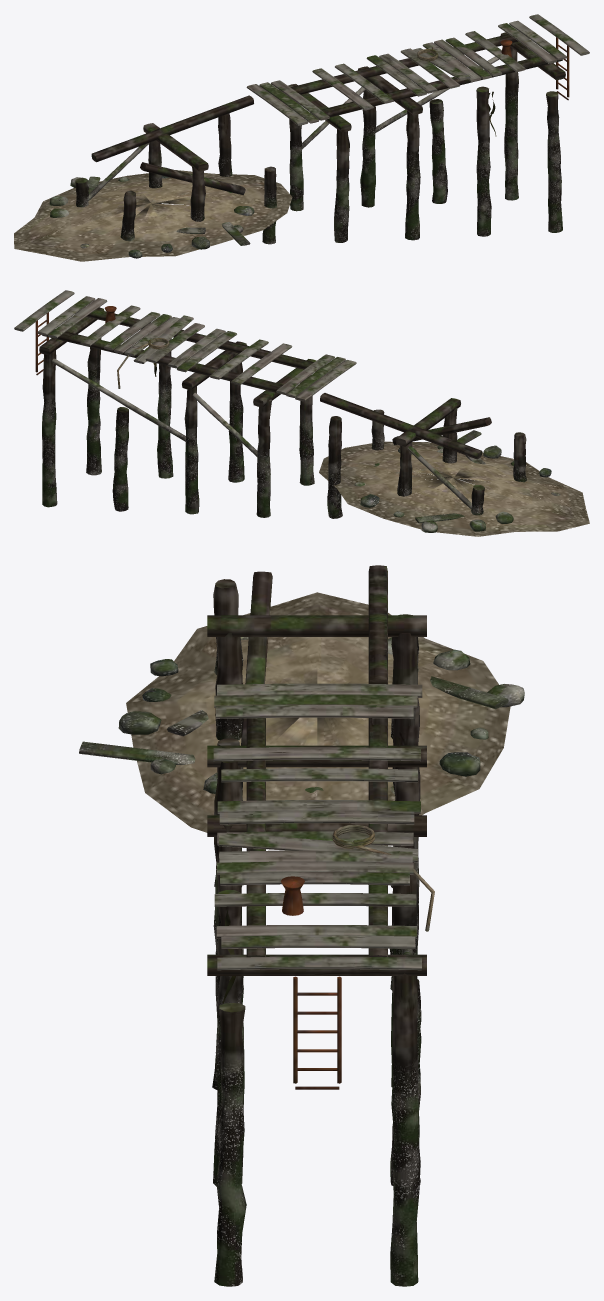
Rendered from kit_wrecked_jetty_hero.glb.
The picture shows the model from 3 angles, top to bottom: view 1: azimuth 30°, elevation 25°; view 2: azimuth 150°, elevation 25°; view 3: azimuth 270°, elevation 25°; orthographic projection. The views are drawn at different scales.
Parts seen in each view (by area): view 1: body, plank_01, plank_04, plank_13, plank_06, plank_16, plank_03, plank_05, plank_08, plank_07, plank_02, plank_14 (+5 smaller); view 2: body, plank_01, plank_04, plank_13, plank_06, plank_16, plank_05, plank_03, plank_09, plank_08, plank_07, plank_14 (+5 smaller); view 3: body, plank_04, plank_05, plank_16, plank_07, plank_03, plank_15, plank_13, plank_01, plank_12, plank_06, plank_10 (+7 smaller).
Boxes of the visible parts, x1,y1,x2,y2 form: body: (14, 32, 569, 261); plank_01: (246, 84, 308, 125); plank_04: (312, 68, 373, 110); plank_13: (465, 31, 525, 72); plank_06: (366, 55, 427, 96); plank_16: (529, 14, 589, 55); plank_03: (271, 80, 329, 120); plank_05: (335, 63, 393, 103); plank_08: (400, 48, 460, 88); plank_07: (379, 53, 437, 93); plank_02: (259, 82, 319, 123); plank_14: (498, 23, 557, 63); body: (35, 307, 589, 536); plank_01: (295, 360, 356, 401); plank_04: (230, 343, 292, 385); plank_13: (80, 305, 140, 346); plank_06: (177, 331, 236, 372); plank_16: (14, 290, 74, 331); plank_05: (210, 339, 268, 379); plank_03: (276, 354, 334, 394); plank_09: (133, 315, 193, 363); plank_08: (145, 323, 204, 362); plank_07: (167, 328, 225, 368); plank_14: (48, 298, 107, 338); body: (118, 565, 524, 1286); plank_04: (213, 747, 420, 761); plank_05: (221, 768, 417, 782); plank_16: (217, 956, 421, 970); plank_07: (219, 810, 414, 824); plank_03: (216, 705, 413, 718); plank_15: (221, 935, 415, 948); plank_13: (214, 893, 416, 906); plank_01: (217, 683, 422, 697); plank_12: (220, 872, 409, 885); plank_06: (217, 800, 420, 813); plank_10: (219, 850, 412, 862).
Size of what is drawn, in the model's own units: 10.41 by 3.32 by 3.65.
2 materials, 2 textured.
